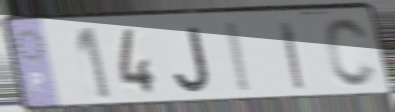1: (72, 25, 113, 103)
4: (118, 26, 158, 98)
C: (321, 16, 380, 91)
I: (225, 20, 254, 96), (277, 19, 307, 92)
J: (172, 24, 214, 96)
